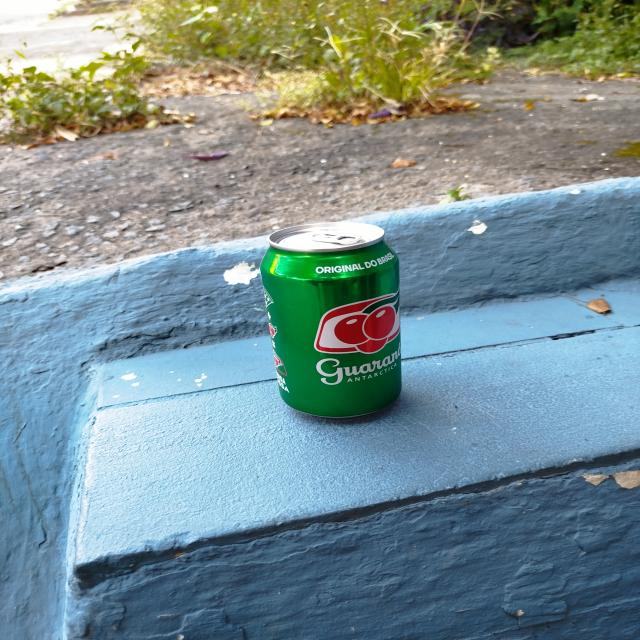Guarana: (260, 223, 401, 416)
